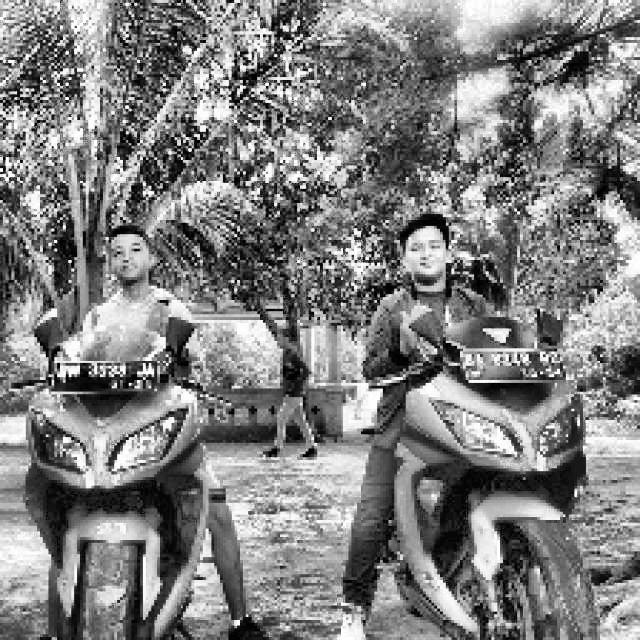motorcycle: (347, 301, 597, 640), (16, 296, 227, 640)
